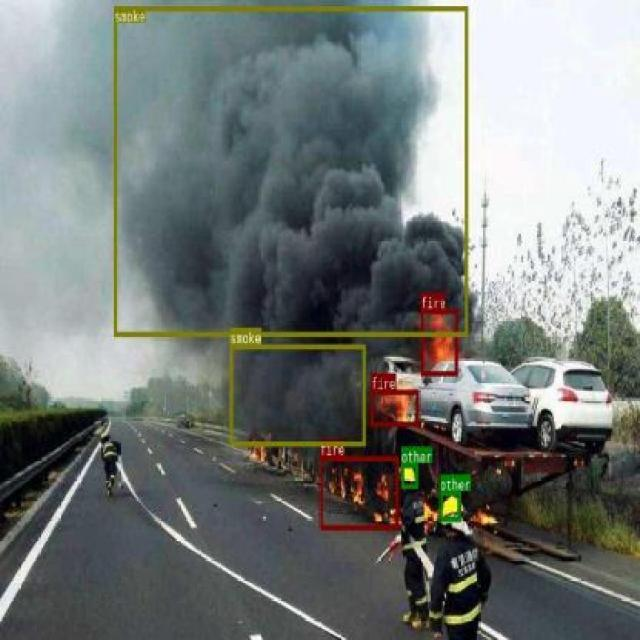fire: (319, 456, 398, 530), (420, 309, 457, 374), (370, 389, 418, 426)
smoke: (113, 6, 467, 337), (229, 344, 365, 446)
